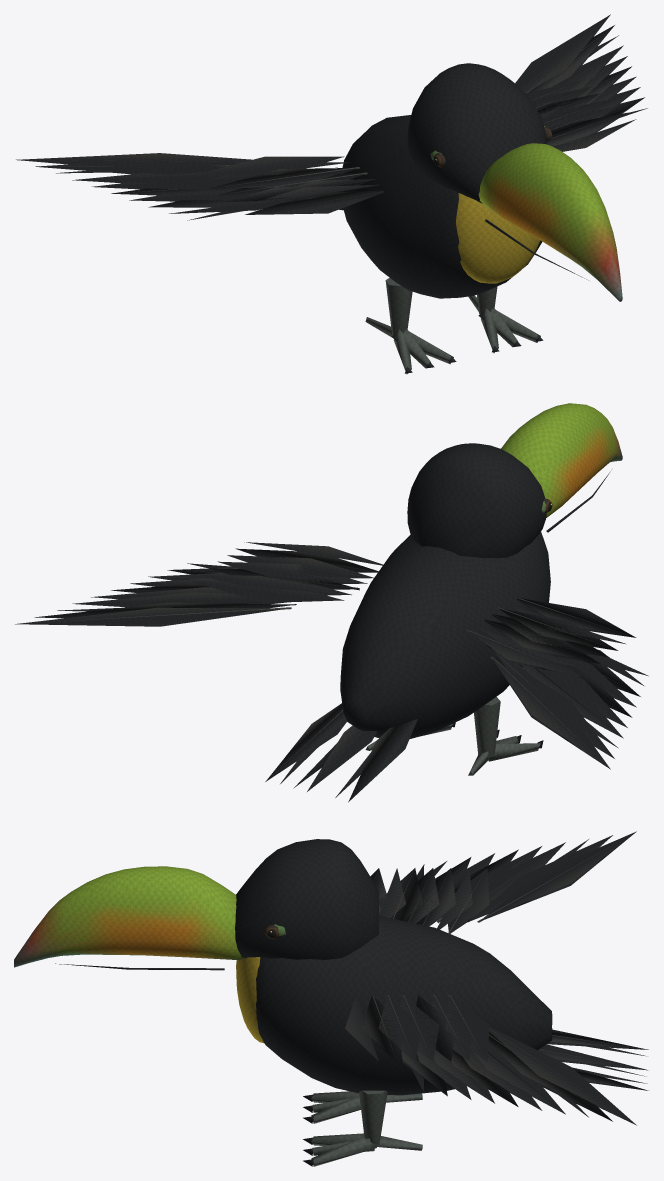
The model's file is keel-billed-toucan.glb.
3 views of the same model, one above another, from view 1: azimuth 30°, elevation 25°; view 2: azimuth 150°, elevation 25°; view 3: azimuth 270°, elevation 25° (orthographic).
Visible parts, largest first — view 1: keel-billed-toucan__head.001, keel-billed-toucan__torso.001, keel-billed-toucan__wing.001, keel-billed-toucan__wing.004, keel-billed-toucan__feet.001, keel-billed-toucan__feet.004; view 2: keel-billed-toucan__torso.001, keel-billed-toucan__head.001, keel-billed-toucan__wing.001, keel-billed-toucan__wing.004, keel-billed-toucan__tail_feathers.002, keel-billed-toucan__feet.001; view 3: keel-billed-toucan__head.001, keel-billed-toucan__torso.001, keel-billed-toucan__wing.004, keel-billed-toucan__wing.001, keel-billed-toucan__feet.004, keel-billed-toucan__tail_feathers.002, keel-billed-toucan__feet.001.
Boxes of the visible parts, x1=… form: keel-billed-toucan__head.001: x1=407, y1=63, x2=622, y2=301; keel-billed-toucan__torso.001: x1=341, y1=115, x2=542, y2=298; keel-billed-toucan__wing.001: x1=16, y1=153, x2=384, y2=220; keel-billed-toucan__wing.004: x1=515, y1=14, x2=647, y2=151; keel-billed-toucan__feet.001: x1=365, y1=277, x2=456, y2=374; keel-billed-toucan__feet.004: x1=468, y1=287, x2=543, y2=353; keel-billed-toucan__torso.001: x1=340, y1=532, x2=550, y2=738; keel-billed-toucan__head.001: x1=407, y1=403, x2=622, y2=558; keel-billed-toucan__wing.001: x1=466, y1=598, x2=648, y2=769; keel-billed-toucan__wing.004: x1=15, y1=542, x2=382, y2=626; keel-billed-toucan__tail_feathers.002: x1=265, y1=703, x2=417, y2=802; keel-billed-toucan__feet.001: x1=468, y1=697, x2=543, y2=775; keel-billed-toucan__head.001: x1=14, y1=839, x2=378, y2=1043; keel-billed-toucan__torso.001: x1=256, y1=916, x2=552, y2=1095; keel-billed-toucan__wing.004: x1=345, y1=994, x2=636, y2=1125; keel-billed-toucan__wing.001: x1=370, y1=831, x2=636, y2=933; keel-billed-toucan__feet.004: x1=303, y1=1090, x2=422, y2=1166; keel-billed-toucan__tail_feathers.002: x1=538, y1=1029, x2=648, y2=1090; keel-billed-toucan__feet.001: x1=303, y1=1091, x2=422, y2=1123.
Bounding box in the file's own units: 1.85 × 0.8511 × 1.69.
2 materials, 1 textured.
